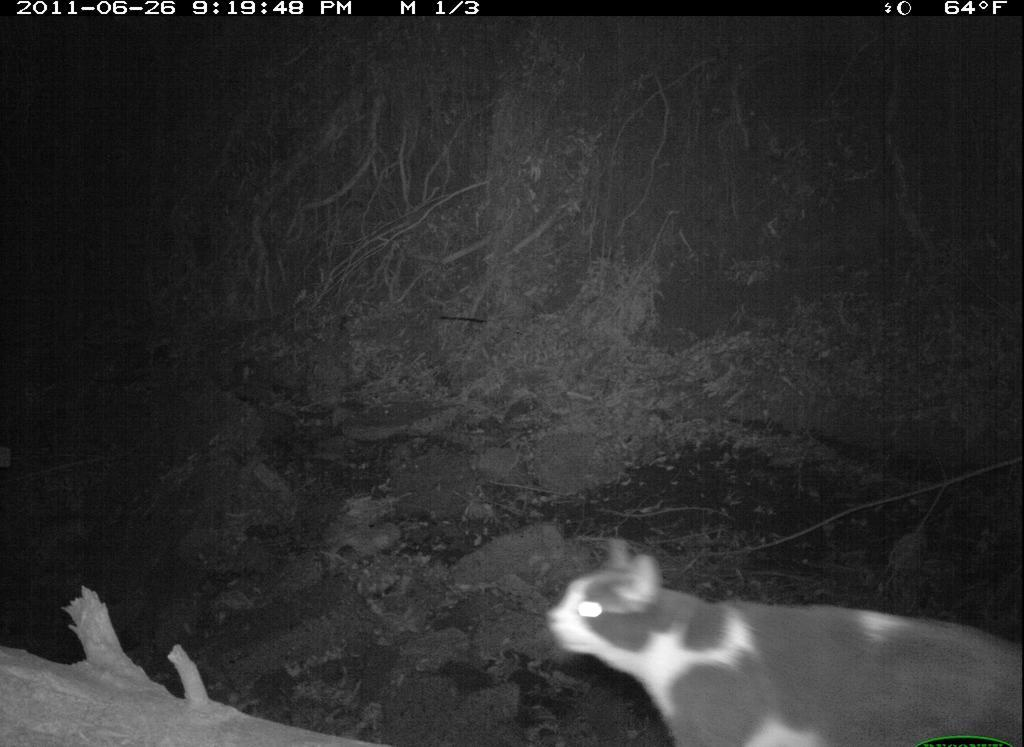cat: (537, 507, 1022, 747)
